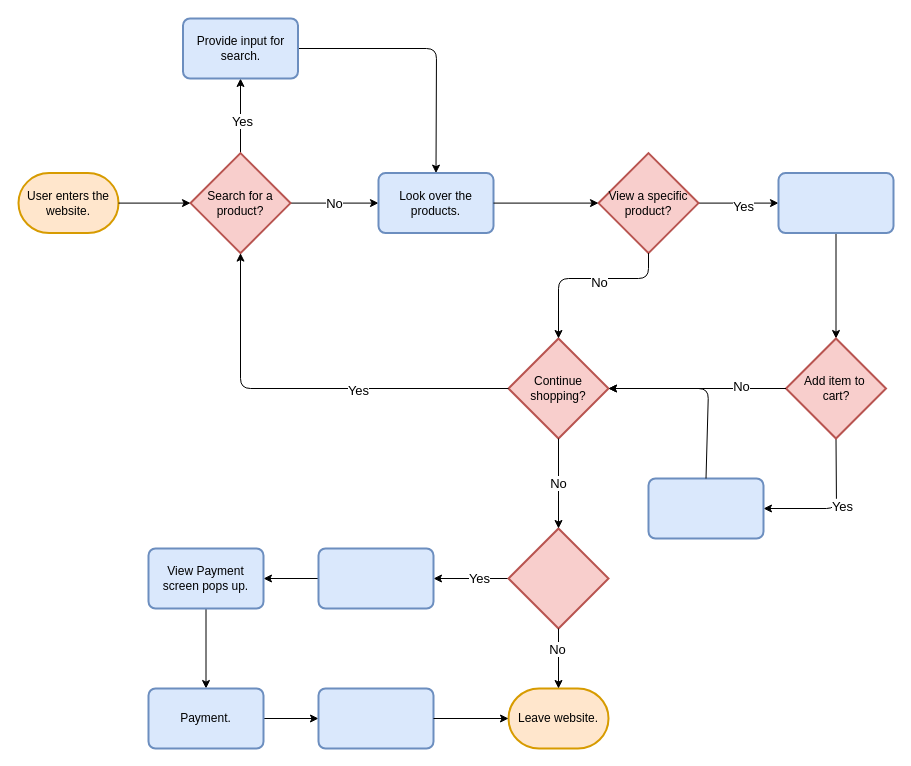
The diagram is 911 pixels wide and 766 high, and some of its shapes have lost their labels. The shapes that lost their labels are listed below. From the top down, each one's centre as x and y in pixels, then its label:
At pixel 835 203: "Product webpage opens.".
At pixel 705 508: "Added to cart confirmation.".
At pixel 375 578: "View Cart screen pops up.".
At pixel 558 578: "Checkout?".
At pixel 375 718: "Order confirmation screen and email is sent.".
